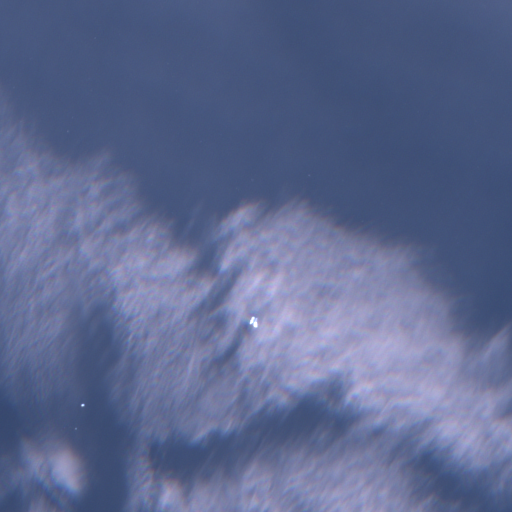Iceberg: (250, 317, 257, 327), (81, 404, 84, 406), (75, 428, 76, 429)
